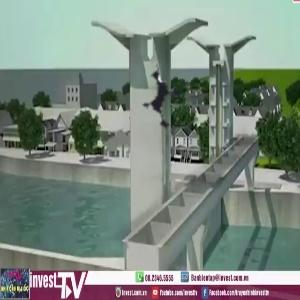drone: (115, 47, 218, 150)
